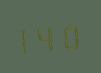four: (40, 20, 60, 52)
one: (18, 22, 38, 53)
zero: (61, 19, 81, 50)
